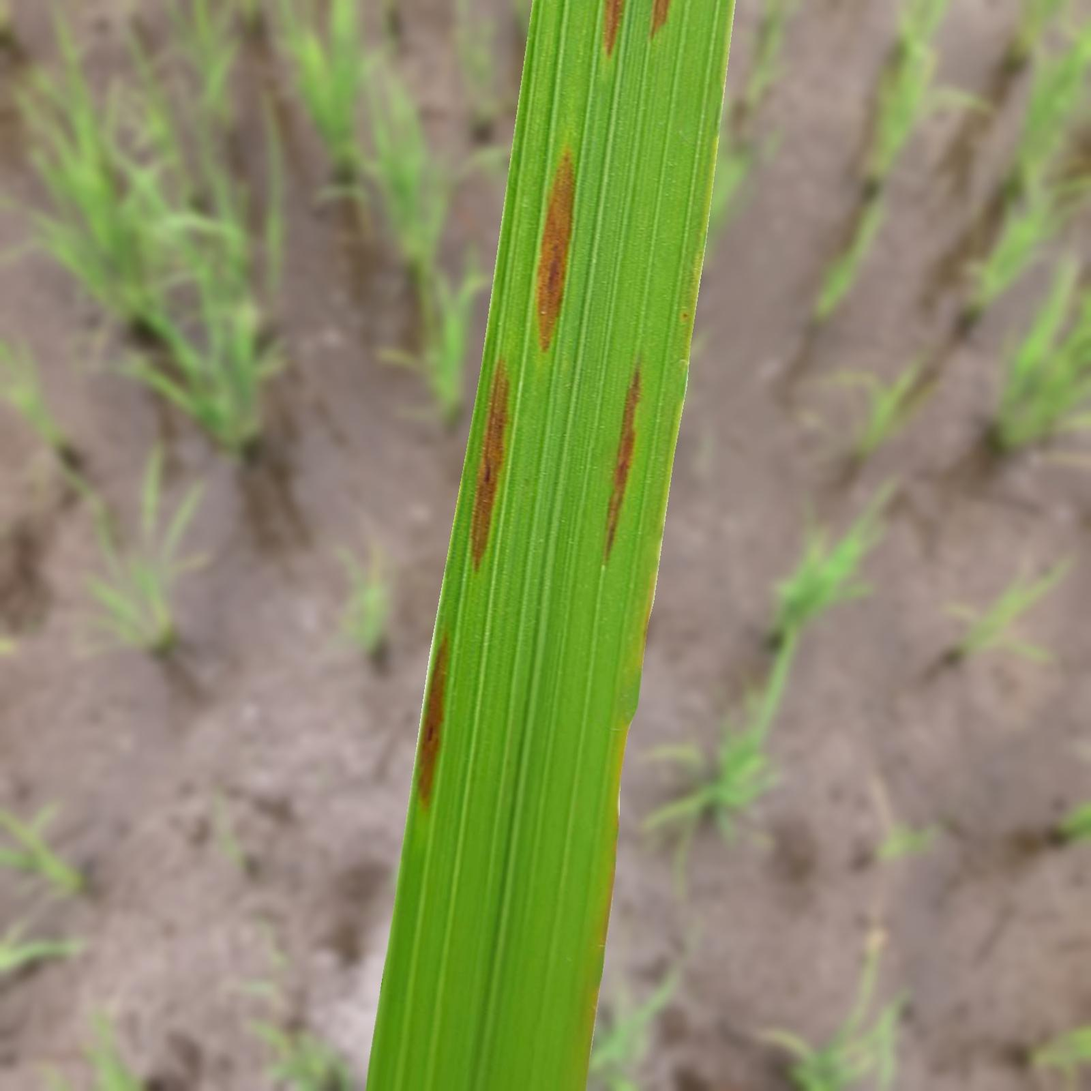LEAF: (365, 0, 735, 1090)
NBS: (470, 360, 509, 568), (536, 149, 575, 351), (605, 362, 641, 559), (417, 635, 449, 807), (603, 0, 624, 55), (651, 0, 672, 37)
